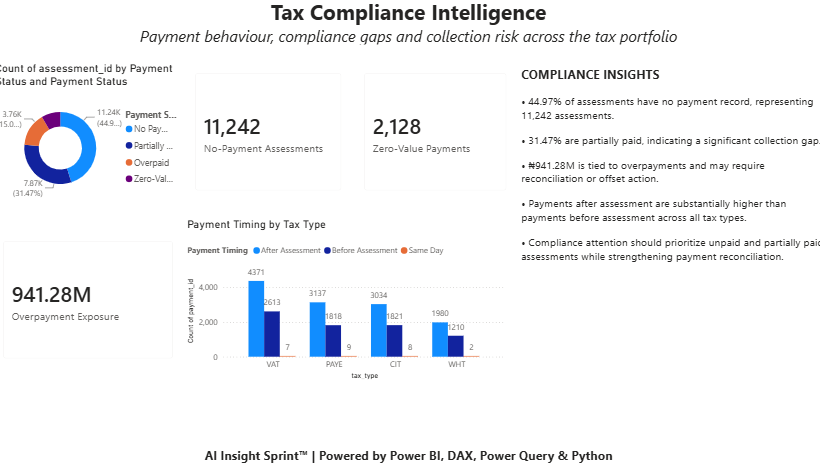

This screenshot's page, from the dashboard's own definition file:
{"tool":"powerbi","page":{"name":"Compliance Intelligence","canvas":[1280,720],"ordinal":2},"visuals":[{"type":"textbox","box":[0,0,1279.7,82.3],"z":0},{"type":"textbox","box":[0,686.4,1279.8,33.6],"z":1000},{"type":"donutChart","fields":{"Category":["assessments_raw.Payment Status"],"Series":["assessments_raw.Payment Status"],"Y":["CountNonNull(assessments_raw.assessment_id)"]},"box":[0,103.3,293.3,213.3],"z":2000},{"type":"cardVisual","fields":{"Data":["Measure1.No-Payment Assessments"]},"box":[292.9,103.7,257.8,213.6],"z":3000},{"type":"cardVisual","fields":{"Data":["Measure1.Zero-Value Payments"]},"box":[550.7,103.7,251.7,213.6],"z":4000},{"type":"clusteredColumnChart","title":"Payment Timing by Tax Type","fields":{"Category":["assessments_raw.tax_type"],"Series":["payments_raw.Payment Timing"],"Y":["CountNonNull(payments_raw.payment_id)"]},"box":[292.9,341.7,495.8,250.6],"z":5000},{"type":"cardVisual","fields":{"Data":["Measure1.Overpayment Exposure"]},"box":[0,360.6,293,213],"z":6000},{"type":"textbox","box":[802.3,104.6,477.7,357],"z":7000}]}

Visuals, with their boxes in screenshot pixels (x1, y1, x2, y2), scaled from the page's 1280x720 canvas onto the 820x466 screenshot:
textbox: select_region(0, 0, 819, 53)
textbox: select_region(0, 444, 819, 465)
donutChart - assessments_raw.Payment Status x assessments_raw.Payment Status: select_region(0, 67, 188, 205)
cardVisual - Measure1.No-Payment Assessments: select_region(188, 67, 353, 205)
cardVisual - Measure1.Zero-Value Payments: select_region(353, 67, 514, 205)
"Payment Timing by Tax Type" clusteredColumnChart: select_region(188, 221, 505, 383)
cardVisual - Measure1.Overpayment Exposure: select_region(0, 233, 188, 371)
textbox: select_region(514, 68, 819, 299)
